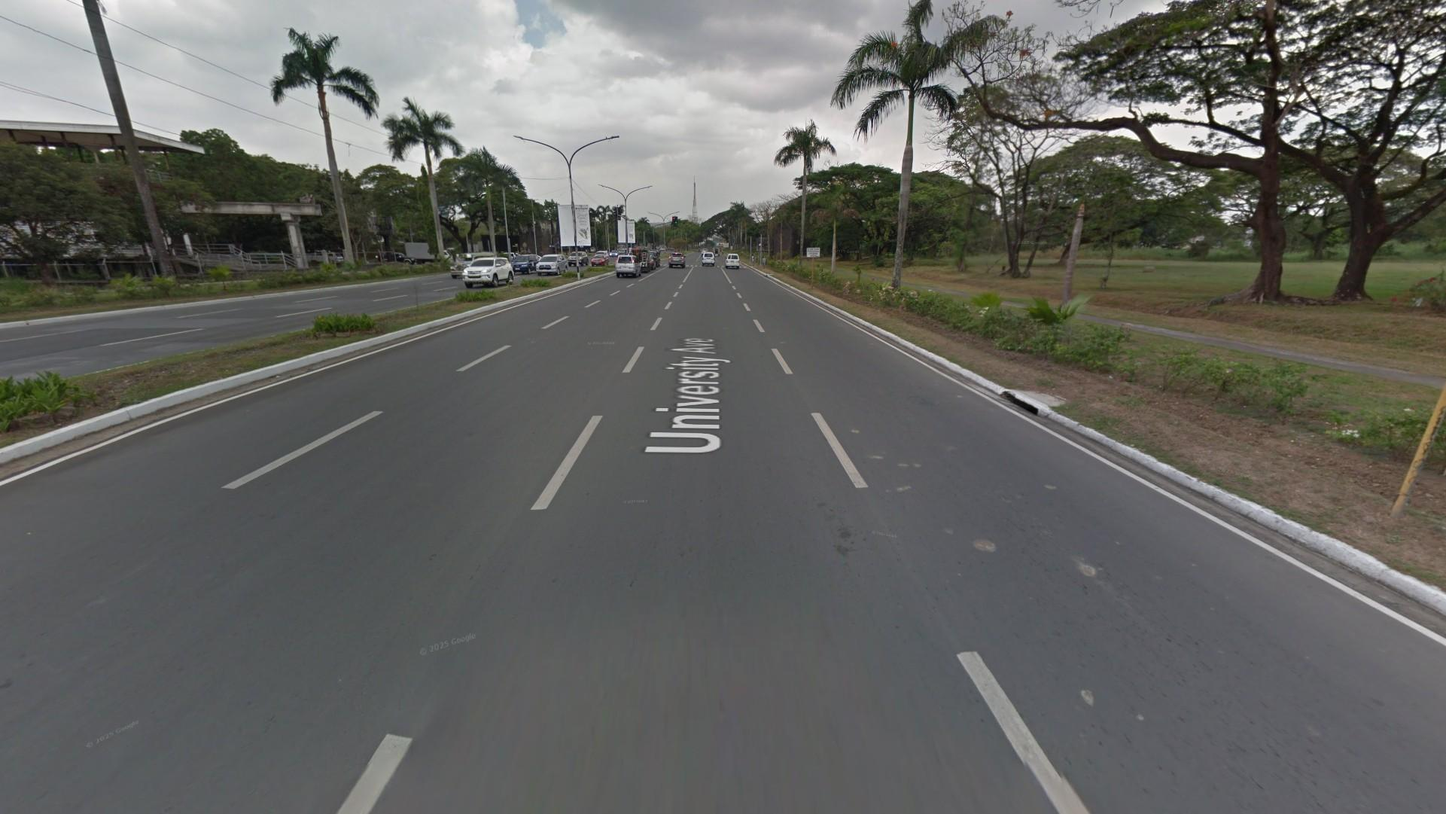pedestrian: (762, 255, 767, 269), (751, 253, 756, 267)
